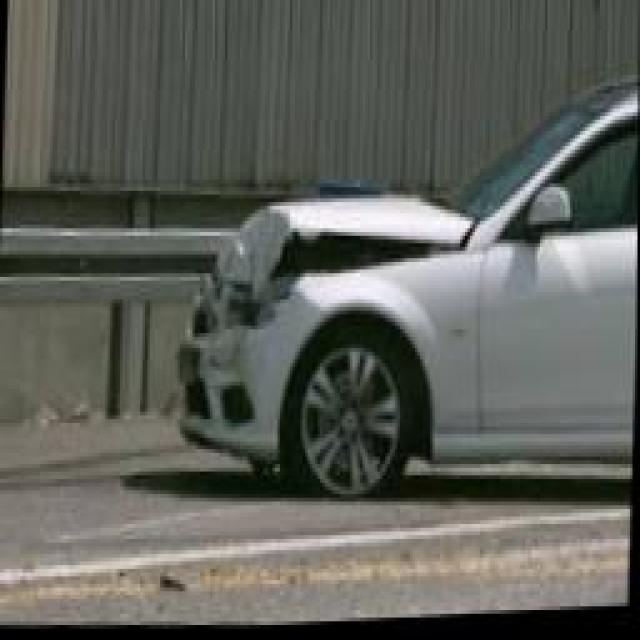Bonnet: (210, 197, 472, 296)
Bumper: (193, 329, 253, 437)
Light: (213, 287, 283, 340)
